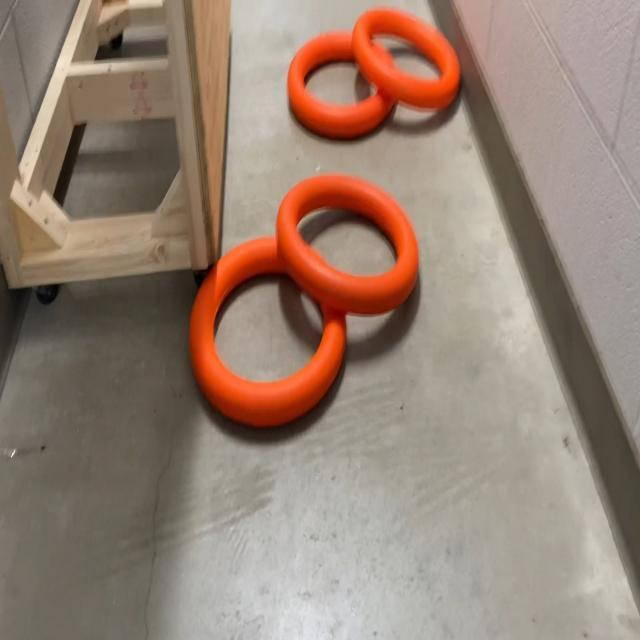note: (189, 237, 345, 434), (275, 170, 419, 316), (287, 31, 397, 138), (354, 6, 459, 110)
